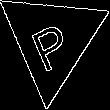P_NW: (27, 9, 77, 71)
